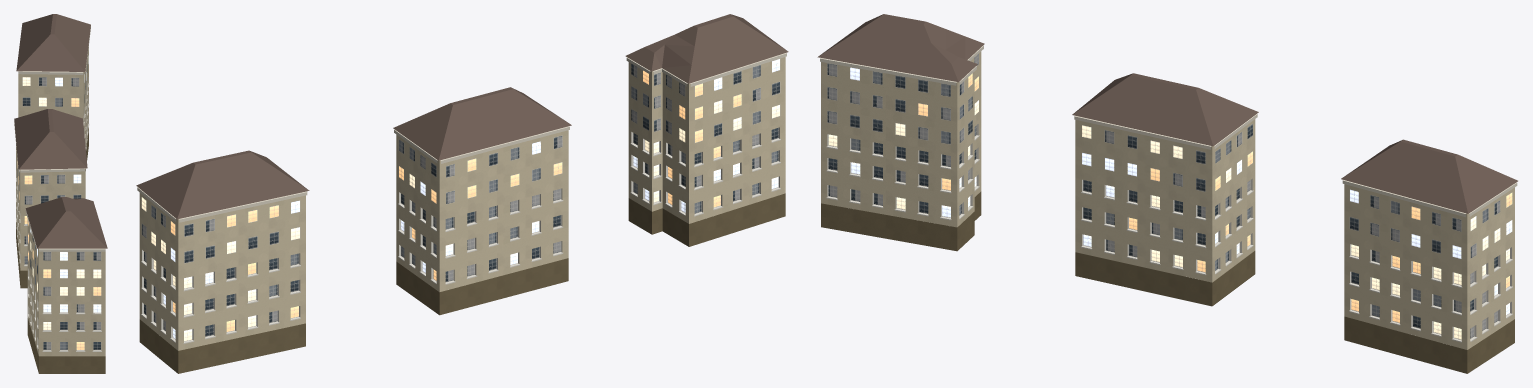
File: z3a_see_a.glb
3 views of the same model, side by side, from view 1: azimuth 30°, elevation 25°; view 2: azimuth 150°, elevation 25°; view 3: azimuth 270°, elevation 25° (orthographic). The views are drawn at different scales.
Visible parts, largest first — view 1: z3a_see_a; view 2: z3a_see_a; view 3: z3a_see_a.
Part boxes in pixels (bbox=[...]): z3a_see_a: bbox=[14, 14, 107, 373]; z3a_see_a: bbox=[136, 14, 788, 373]; z3a_see_a: bbox=[817, 14, 1517, 373].
Size of the model in its own units: 49.26 by 25.44 by 79.94.
3 materials, 3 textured.
